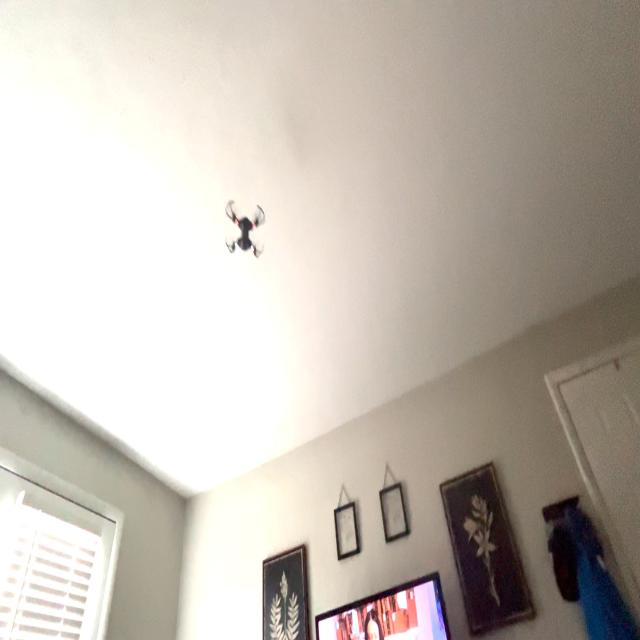drone: (216, 184, 274, 272)
